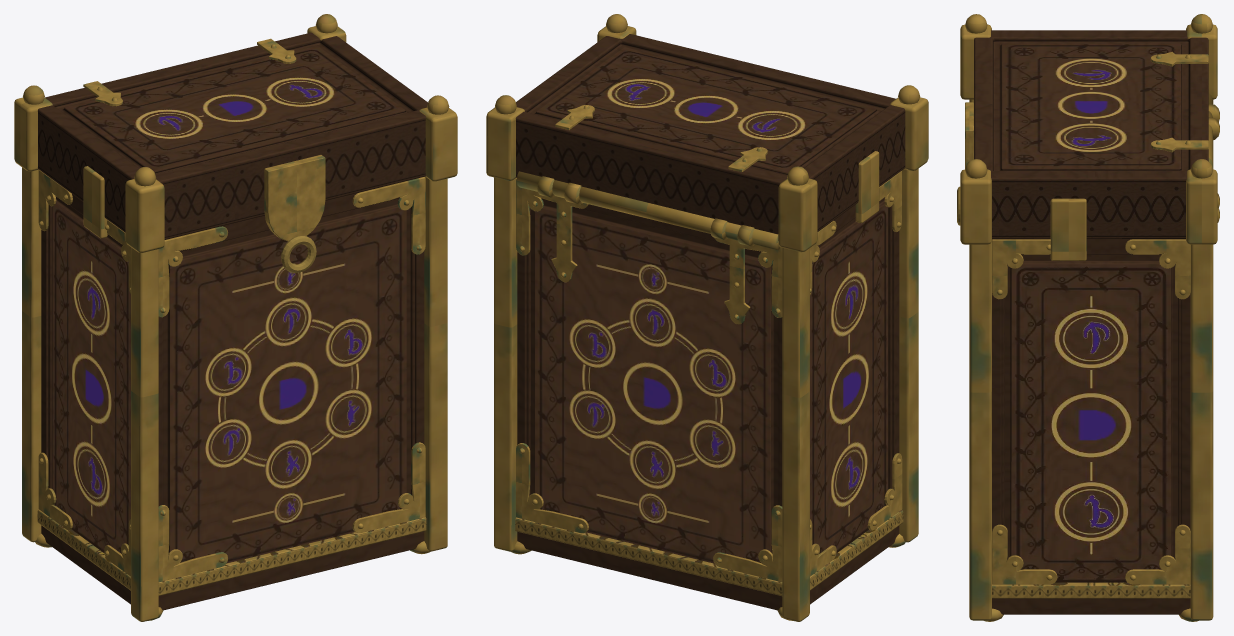
The model's file is deckbox.glb.
3 views of the same model, side by side, from view 1: azimuth 30°, elevation 25°; view 2: azimuth 150°, elevation 25°; view 3: azimuth 270°, elevation 25° (orthographic).
Parts seen in each view (by area): view 1: DeckBoxMesh, LidMesh, ClaspMesh, LatchLMesh; view 2: DeckBoxMesh, LidMesh, LatchLMesh; view 3: DeckBoxMesh, LidMesh, LatchRMesh, ClaspMesh.
Boxes of the visible parts, box(x1,y1,x2,y2) form: DeckBoxMesh: box(22, 167, 447, 621); LidMesh: box(14, 14, 457, 252); ClaspMesh: box(264, 155, 325, 272); LatchLMesh: box(83, 166, 107, 238); DeckBoxMesh: box(494, 168, 918, 621); LidMesh: box(486, 14, 928, 252); LatchLMesh: box(855, 151, 879, 222); DeckBoxMesh: box(969, 99, 1213, 621); LidMesh: box(960, 14, 1219, 244); LatchRMesh: box(1050, 198, 1086, 260); ClaspMesh: box(957, 102, 973, 225).
Size of the model in its own units: 1.66 by 2.27 by 1.17.
Materials: 7 (7 with a texture image).
